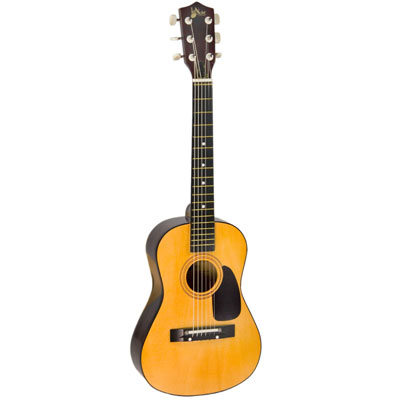guitar: (130, 1, 263, 399)
